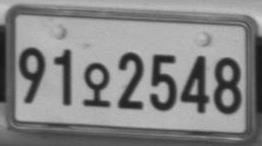1: (49, 48, 78, 106)
2: (117, 51, 144, 110)
4: (180, 55, 210, 114)
5: (149, 53, 177, 112)
8: (213, 56, 242, 115)
9: (17, 46, 46, 103)
오: (82, 62, 110, 107)
